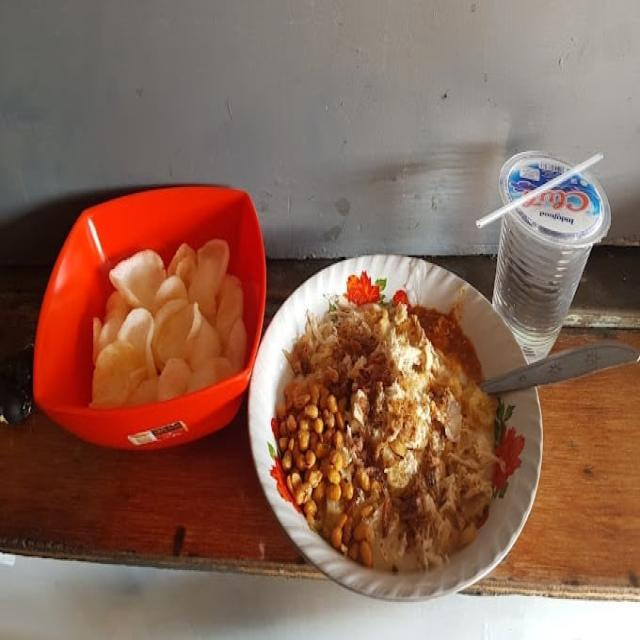bubur ayam: (282, 302, 504, 576)
mangkuk: (246, 253, 546, 604), (32, 183, 268, 451)
